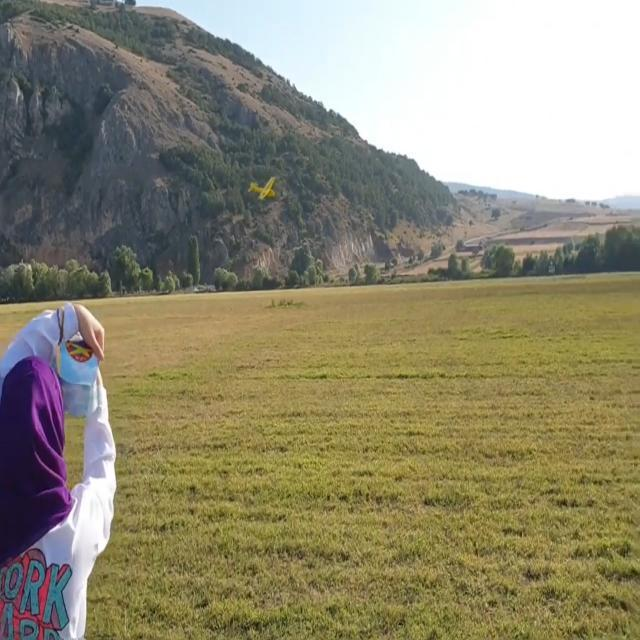UAV: (249, 165, 288, 212)
